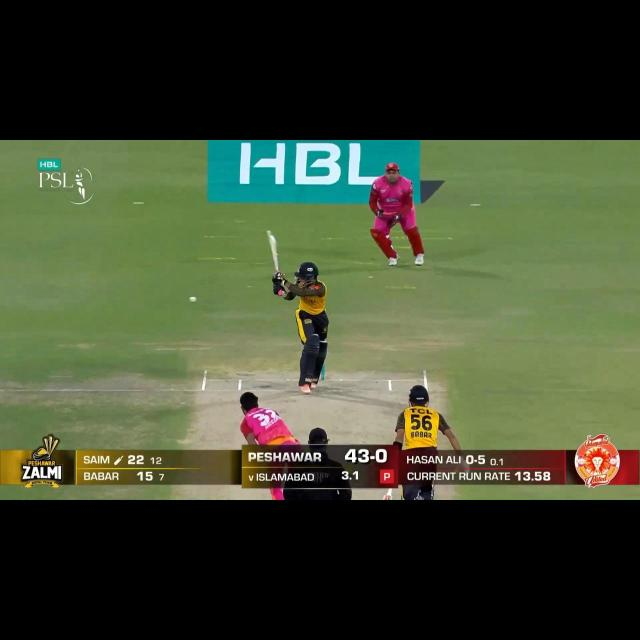bat: (266, 230, 282, 273), (382, 488, 396, 502)
toe: (266, 231, 277, 242)
